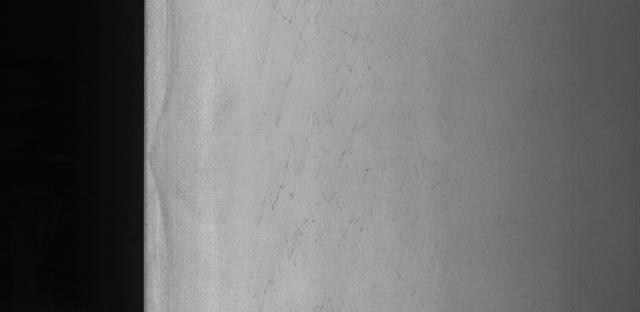silk_spot: (260, 0, 433, 263)
